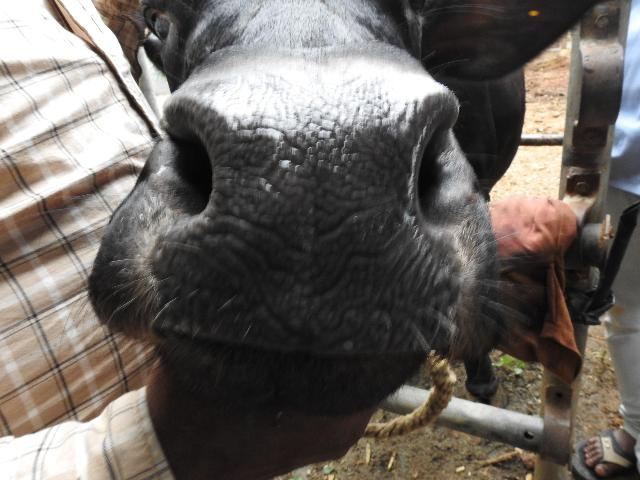Muzzle: (209, 85, 409, 334)
